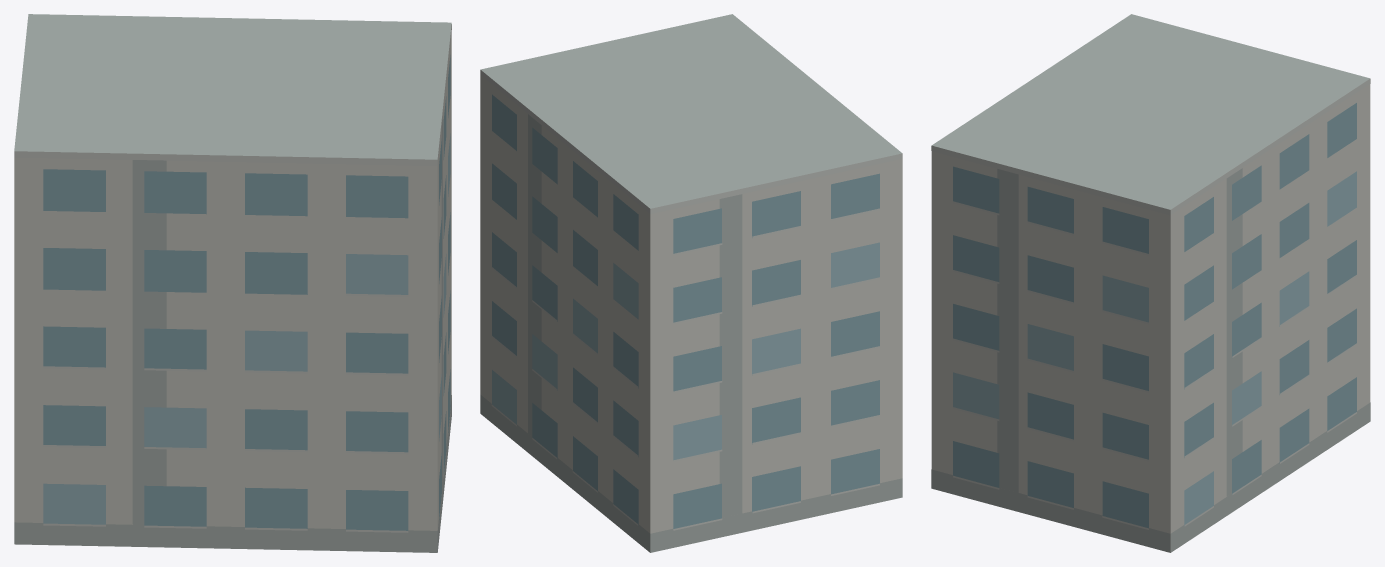
File: survey-upis-32607571.glb
The picture shows the model from 3 angles, left to right: view 1: azimuth 30°, elevation 25°; view 2: azimuth 150°, elevation 25°; view 3: azimuth 270°, elevation 25°; orthographic projection. The views are drawn at different scales.
Visible parts, largest first — view 1: survey-upis-32607571.tmp; view 2: survey-upis-32607571.tmp; view 3: survey-upis-32607571.tmp.
Boxes of the visible parts, x1,y1,x2,y2 form: survey-upis-32607571.tmp: (14, 14, 451, 552); survey-upis-32607571.tmp: (480, 14, 902, 552); survey-upis-32607571.tmp: (931, 14, 1370, 552).
Bounding box in the file's own units: 18.68 × 15.25 × 17.7.
